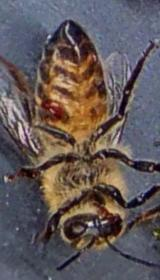varroa_mite: (30, 94, 80, 128)
